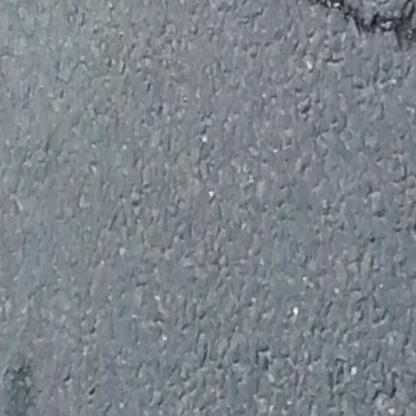Cracks: (274, 0, 416, 66)
